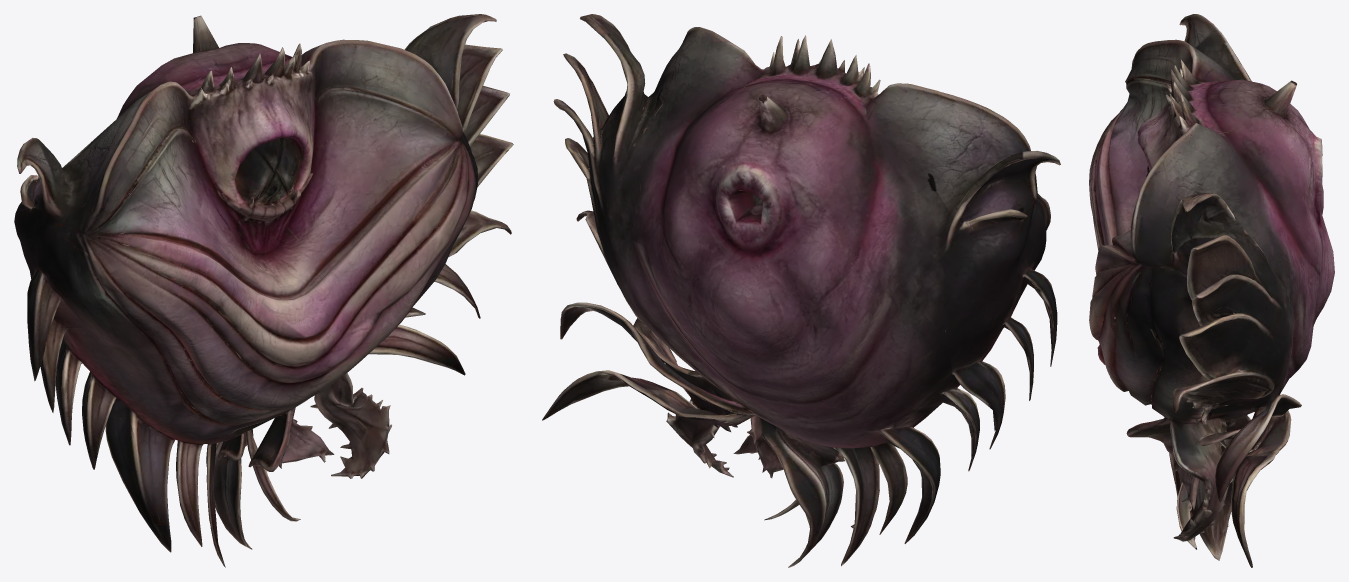
File: FleshMaw.glb
The picture shows the model from 3 angles, left to right: view 1: azimuth 30°, elevation 25°; view 2: azimuth 150°, elevation 25°; view 3: azimuth 270°, elevation 25°; orthographic projection. The views are drawn at different scales.
Visible parts, largest first — view 1: Mesh1.0; view 2: Mesh1.0; view 3: Mesh1.0.
Boxes of the visible parts, x1=… form: Mesh1.0: x1=14, y1=14, x2=513, y2=567; Mesh1.0: x1=542, y1=14, x2=1060, y2=567; Mesh1.0: x1=1089, y1=14, x2=1334, y2=567.
Bounding box in the file's own units: 1.91 × 1.89 × 0.8716.
1 material, 1 textured.
